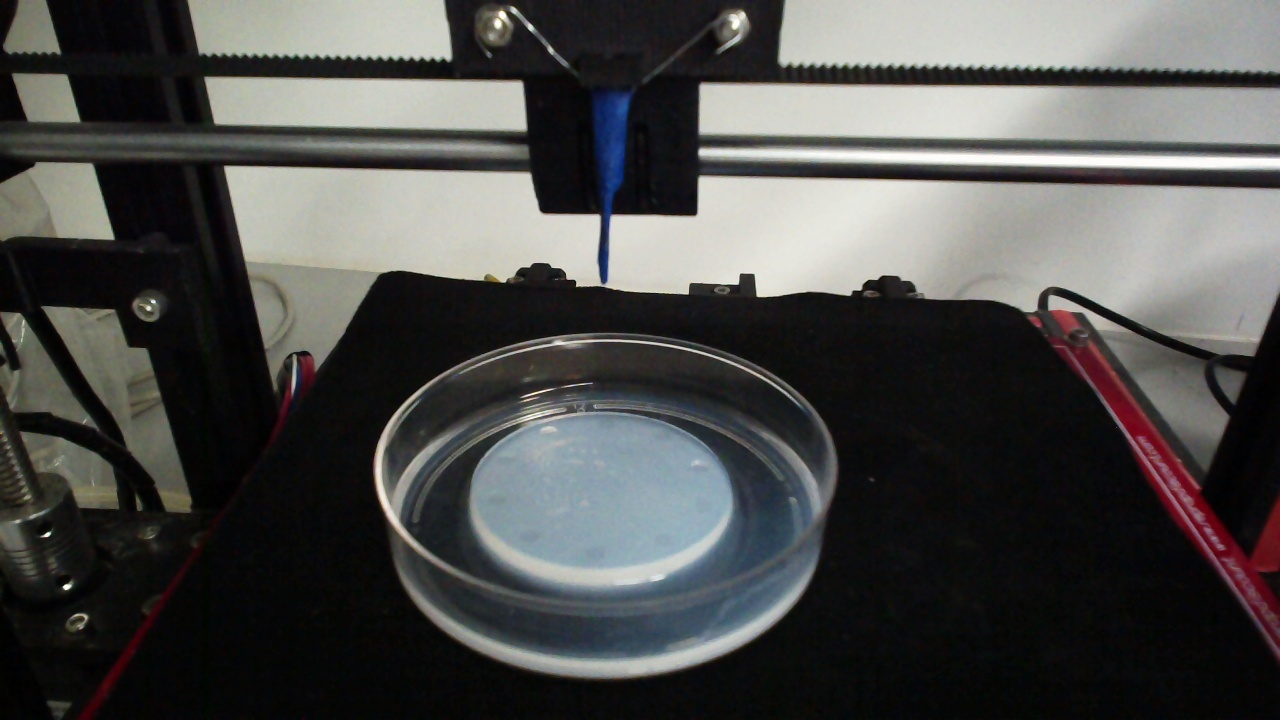groove: (652, 530, 678, 548), (690, 497, 716, 514), (516, 529, 542, 545), (486, 492, 509, 507), (689, 459, 712, 473), (584, 546, 605, 561), (494, 452, 516, 466), (652, 429, 674, 443), (595, 417, 618, 430), (538, 425, 559, 437)
needle: (596, 90, 631, 283)
